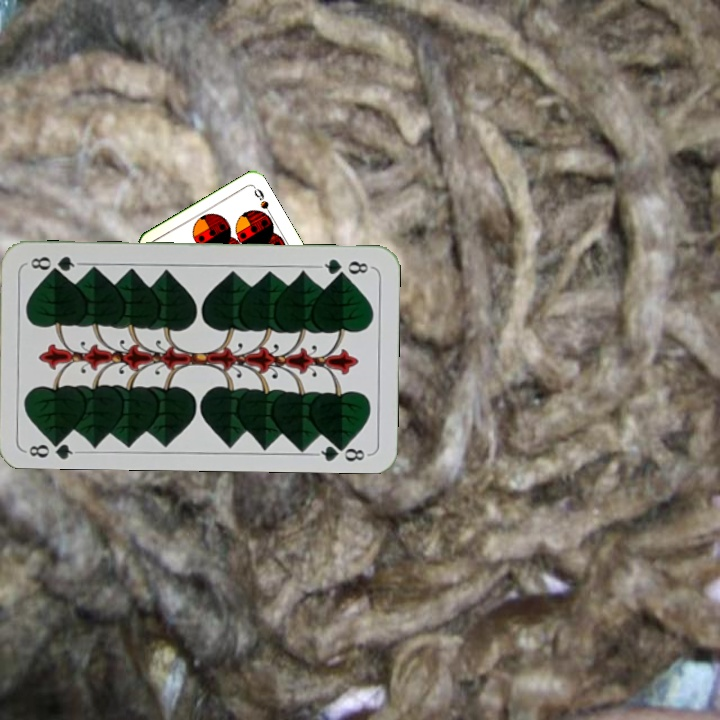G8: (22, 433, 81, 461), (315, 254, 374, 279)
